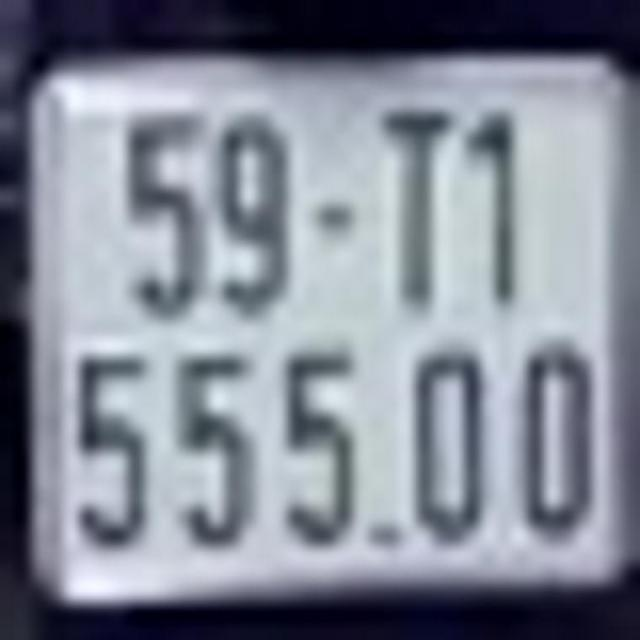0: (400, 342, 484, 548), (522, 334, 599, 542)
1: (462, 105, 526, 306)
5: (123, 110, 207, 324), (73, 348, 151, 546), (176, 350, 252, 548), (280, 346, 356, 541)
9: (212, 110, 293, 314)
T: (380, 106, 450, 312)
